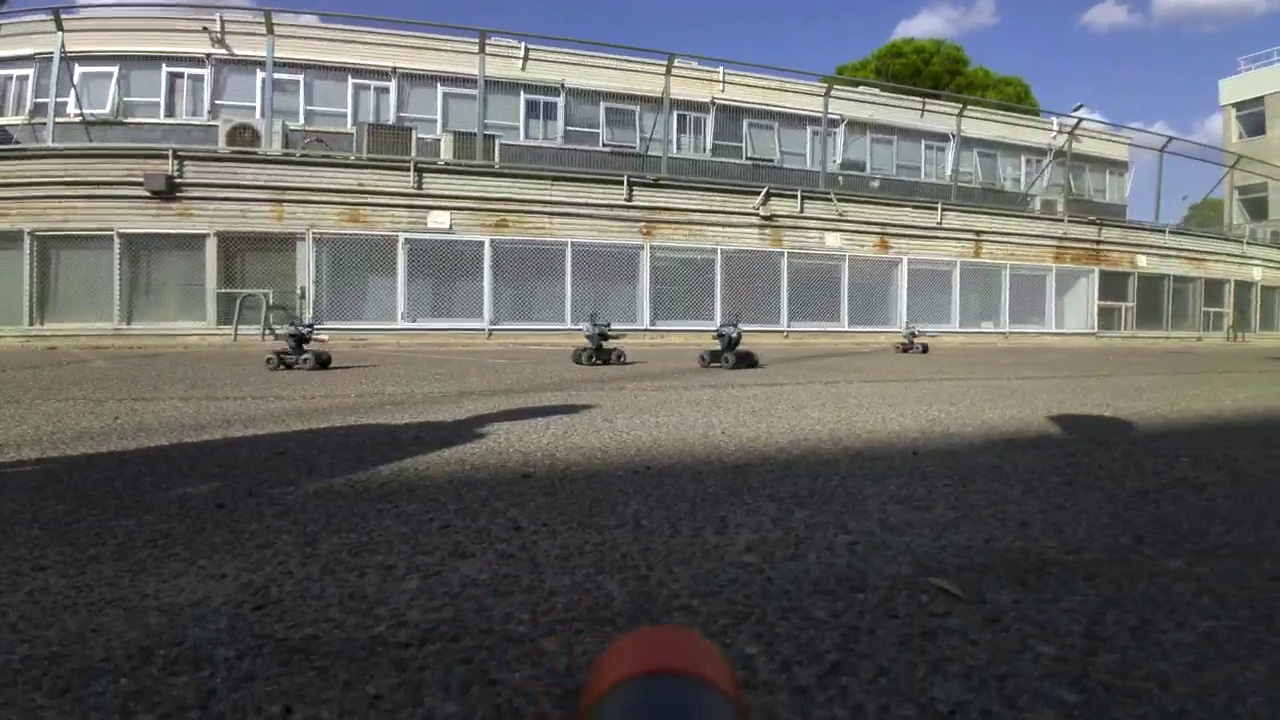robot: (264, 305, 334, 374), (697, 313, 760, 371), (571, 313, 632, 367), (897, 324, 928, 354)
